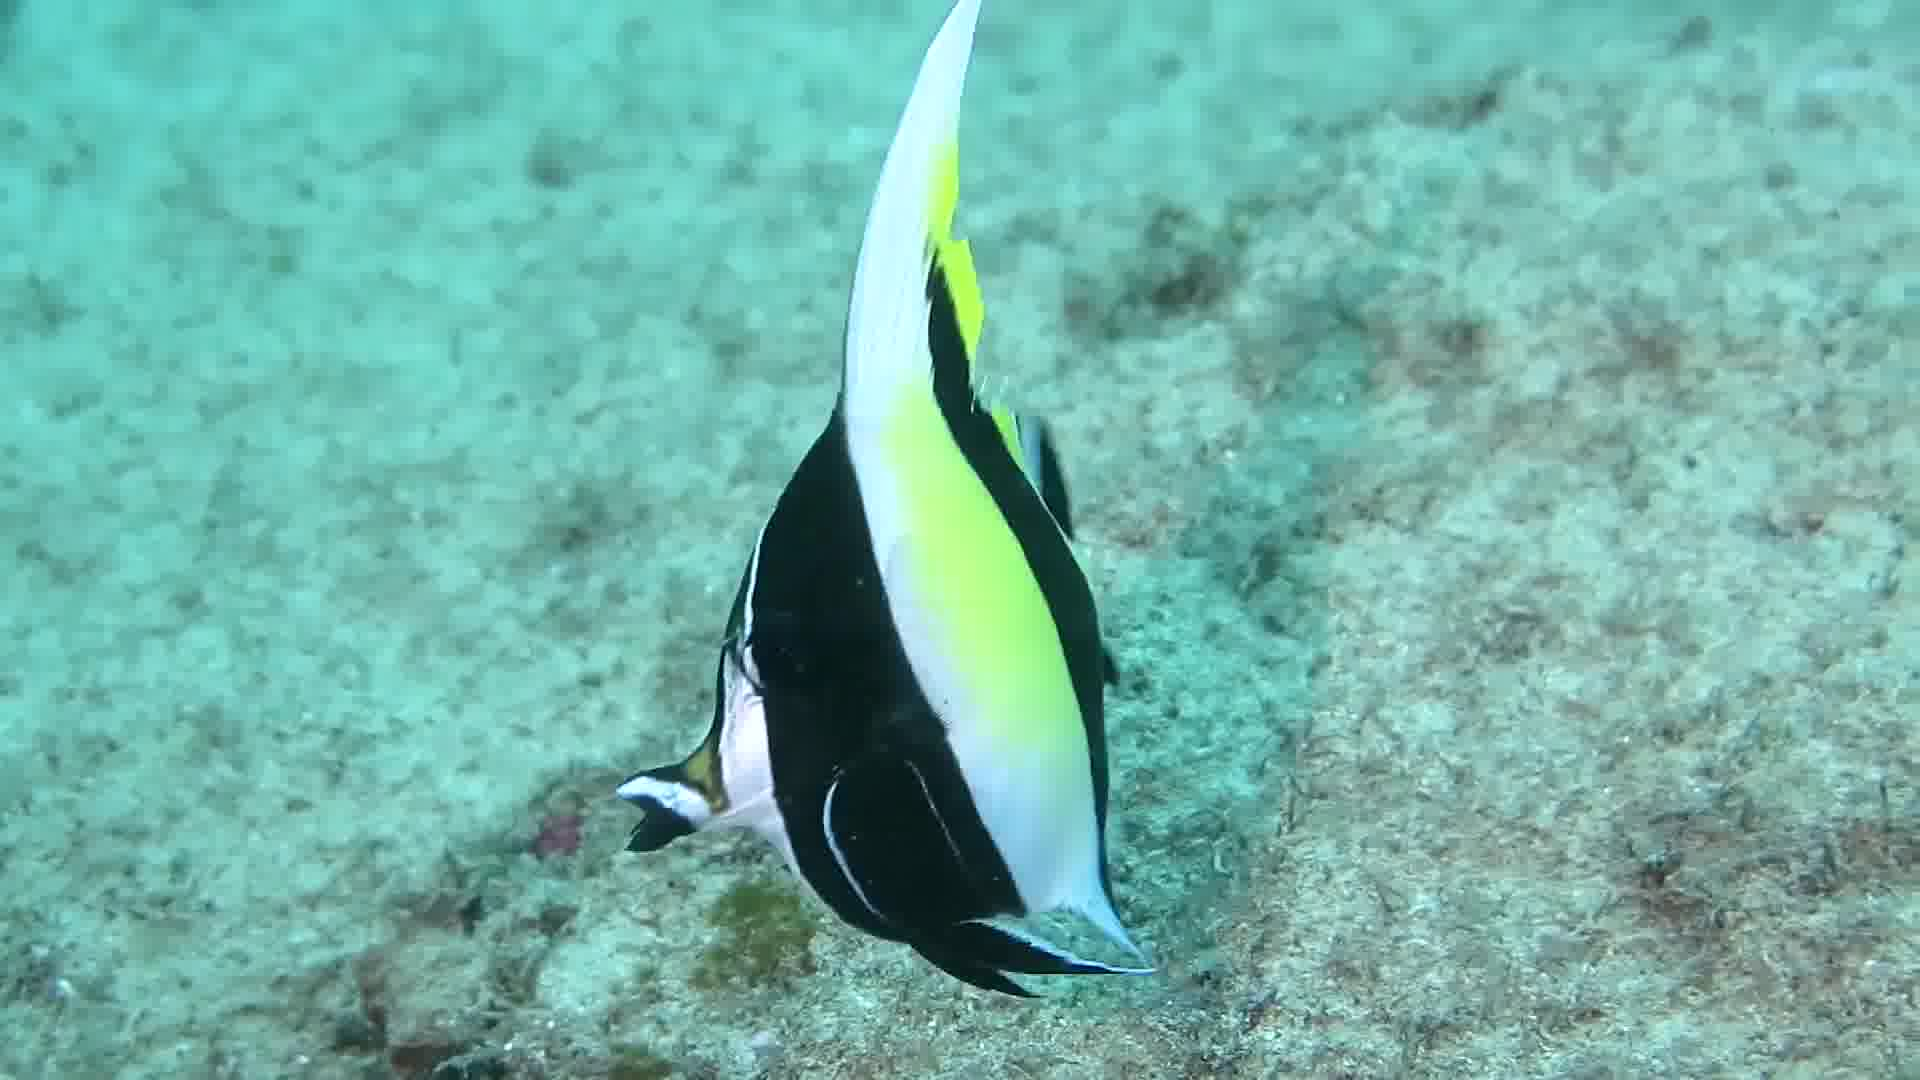Zanclus cornutus: (597, 363, 1251, 997)
